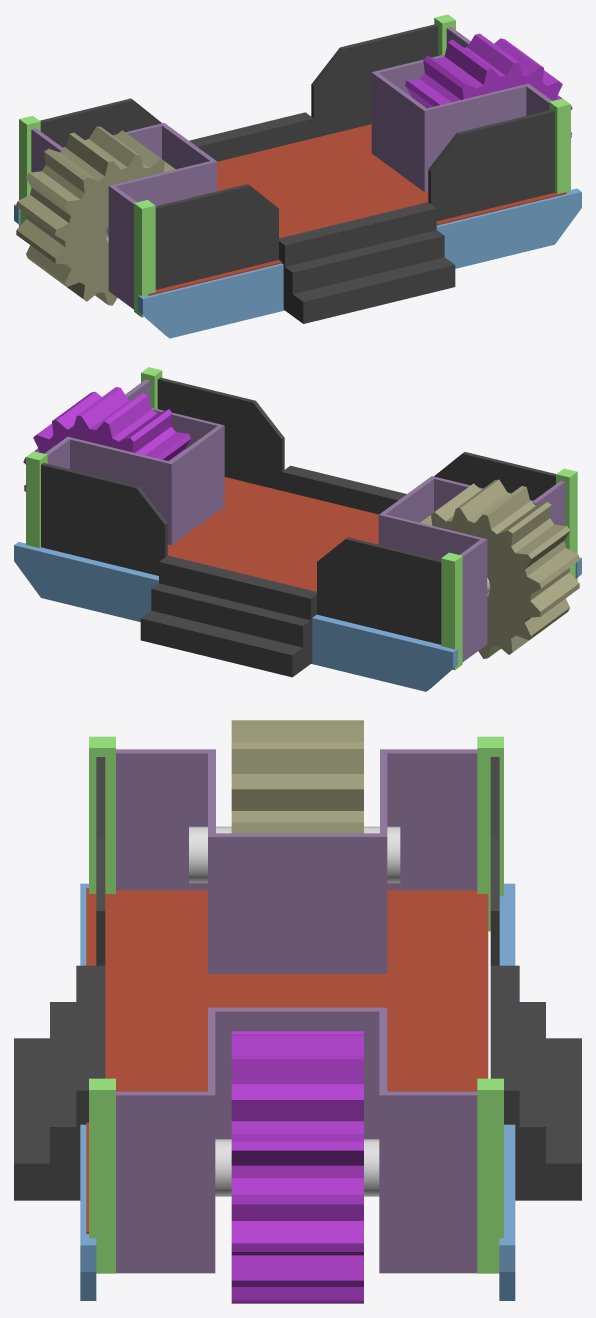
File: lift.fbx
3 renders of one model, top to bottom at view 1: azimuth 30°, elevation 25°; view 2: azimuth 150°, elevation 25°; view 3: azimuth 270°, elevation 25°, orthographic. The views are drawn at different scales.
Visible parts, largest first — view 1: Box012, Star001, Star002; view 2: Box012, Star001, Star002; view 3: Box012, Star002, Star001.
Part boxes in pixels (left/top/right/bottom): Box012: left=14, top=14, right=581, bottom=338; Star001: left=15, top=126, right=175, bottom=305; Star002: left=405, top=33, right=572, bottom=137; Box012: left=14, top=367, right=581, bottom=691; Star001: left=420, top=479, right=580, bottom=658; Star002: left=23, top=387, right=190, bottom=491; Box012: left=14, top=736, right=581, bottom=1300; Star002: left=231, top=1031, right=363, bottom=1303; Star001: left=231, top=720, right=363, bottom=833.
Size of the model in its own units: 406 by 228 by 111.
